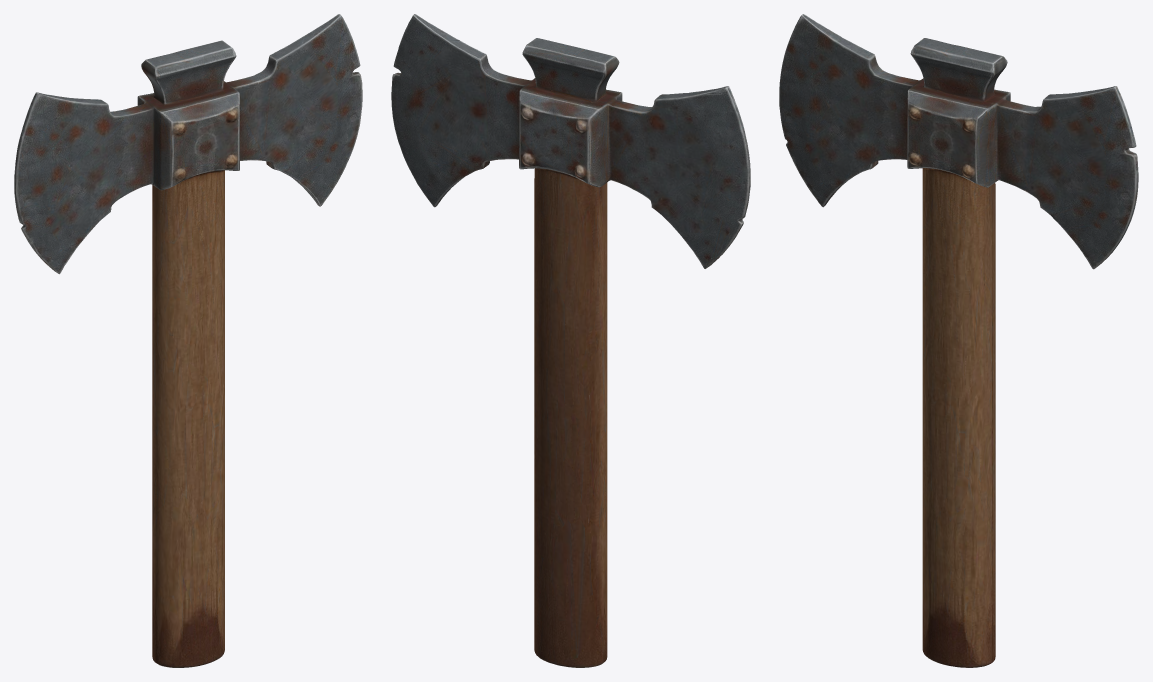
File: axe-1.glb
The picture shows the model from 3 angles, left to right: view 1: azimuth 30°, elevation 25°; view 2: azimuth 150°, elevation 25°; view 3: azimuth 330°, elevation 25°; orthographic projection.
Visible parts, largest first — view 1: Mesh_0; view 2: Mesh_0; view 3: Mesh_0.
Part boxes in pixels (x1,y1,x2,y2): Mesh_0: (14, 14, 362, 667); Mesh_0: (391, 14, 750, 667); Mesh_0: (779, 14, 1138, 667).
Size of the model in its own units: 1.16 by 1.9 by 0.2261.
1 material, 1 textured.
